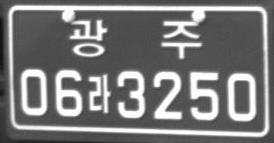0: (226, 71, 257, 121), (19, 67, 48, 115)
2: (153, 69, 184, 120)
3: (117, 70, 145, 119)
5: (189, 71, 219, 120)
6: (54, 68, 83, 117)
광주_D: (69, 18, 202, 59)
라: (87, 74, 111, 114)
